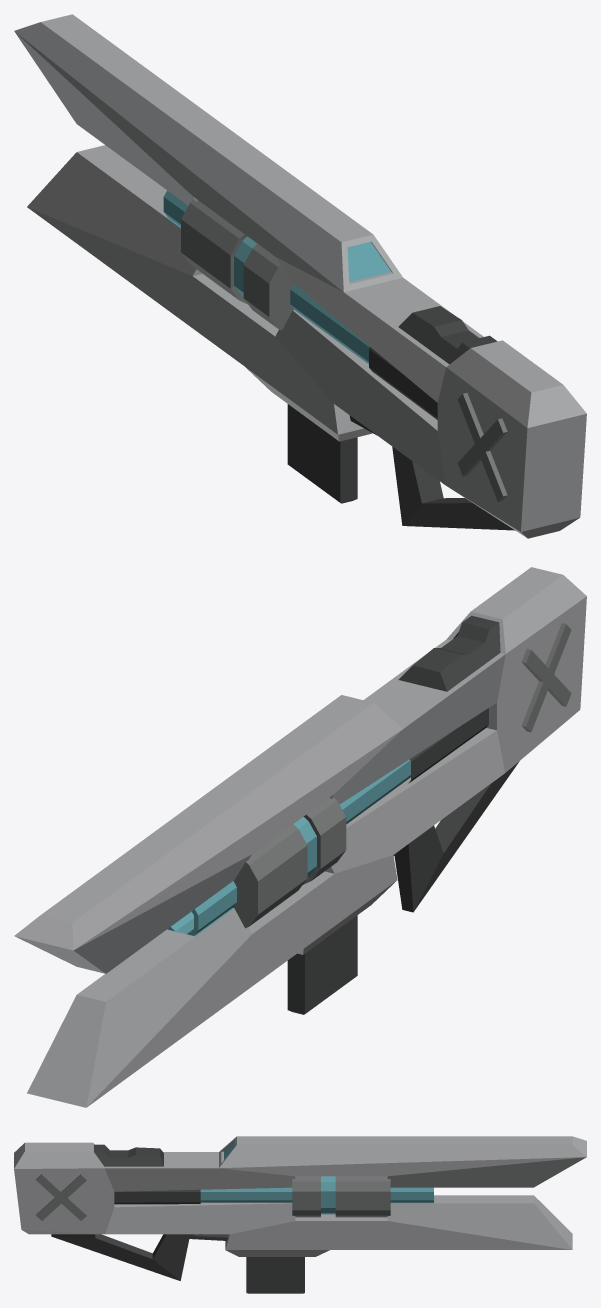
The model's file is XenTech99.glb.
3 renders of one model, top to bottom at view 1: azimuth 30°, elevation 25°; view 2: azimuth 150°, elevation 25°; view 3: azimuth 270°, elevation 25°, orthographic. The views are drawn at different scales.
Parts seen in each view (by area): view 1: XenTech_99; view 2: XenTech_99; view 3: XenTech_99.
Boxes of the visible parts, box(x1,y1,x2,y2) form: XenTech_99: box(14, 14, 586, 538); XenTech_99: box(14, 567, 586, 1107); XenTech_99: box(14, 1136, 586, 1293).
Size of the model in its own units: 0.0958 by 0.3226 by 1.11.
1 material, 1 textured.
